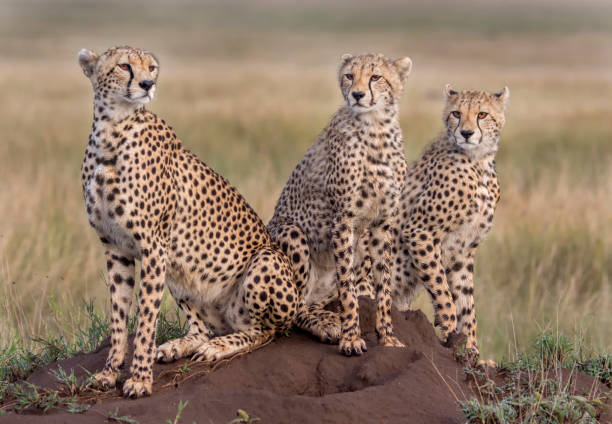cheetah: (67, 36, 164, 121), (330, 38, 414, 120), (436, 77, 516, 156)
